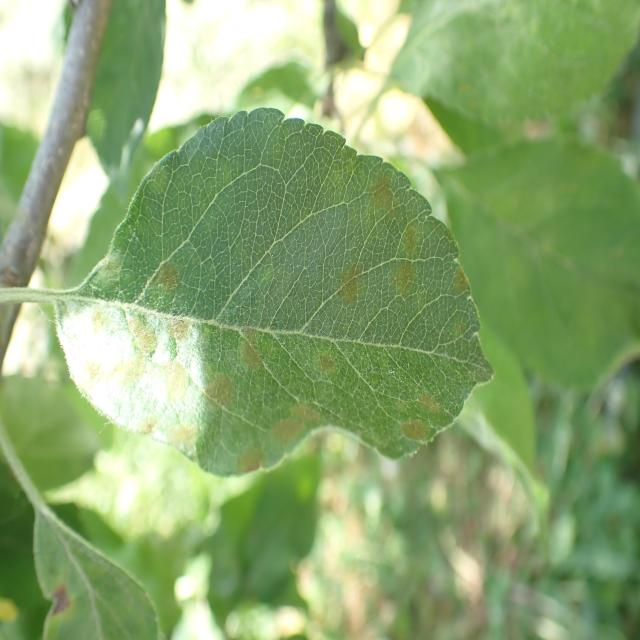scab: (66, 175, 487, 470)
